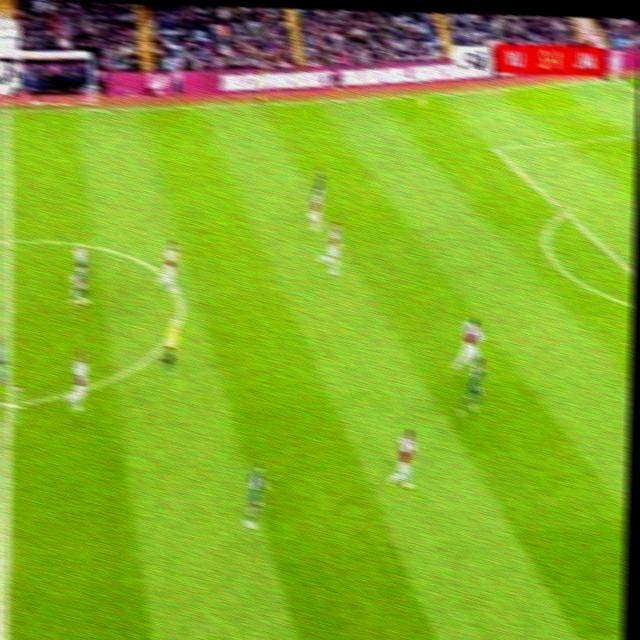bigarea_top_inner: (486, 137, 506, 158)
corner: (602, 73, 627, 88)
halfcircle_bottom: (0, 384, 24, 423)
halfcircle_top: (0, 227, 21, 254)
midline_top_intersection: (0, 97, 19, 122)
top_arc_area_intersection: (555, 201, 575, 221)
